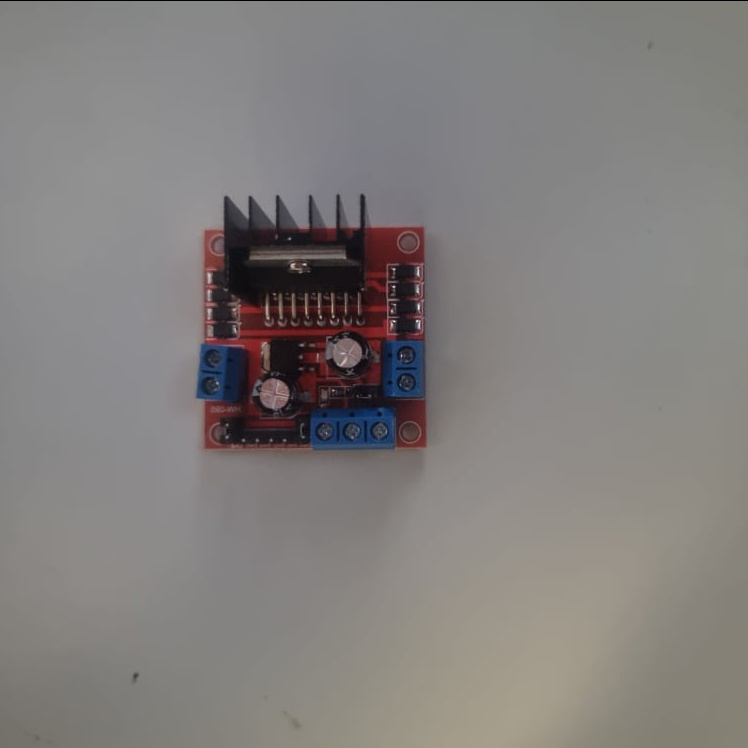MOTOR: (193, 191, 429, 449)
